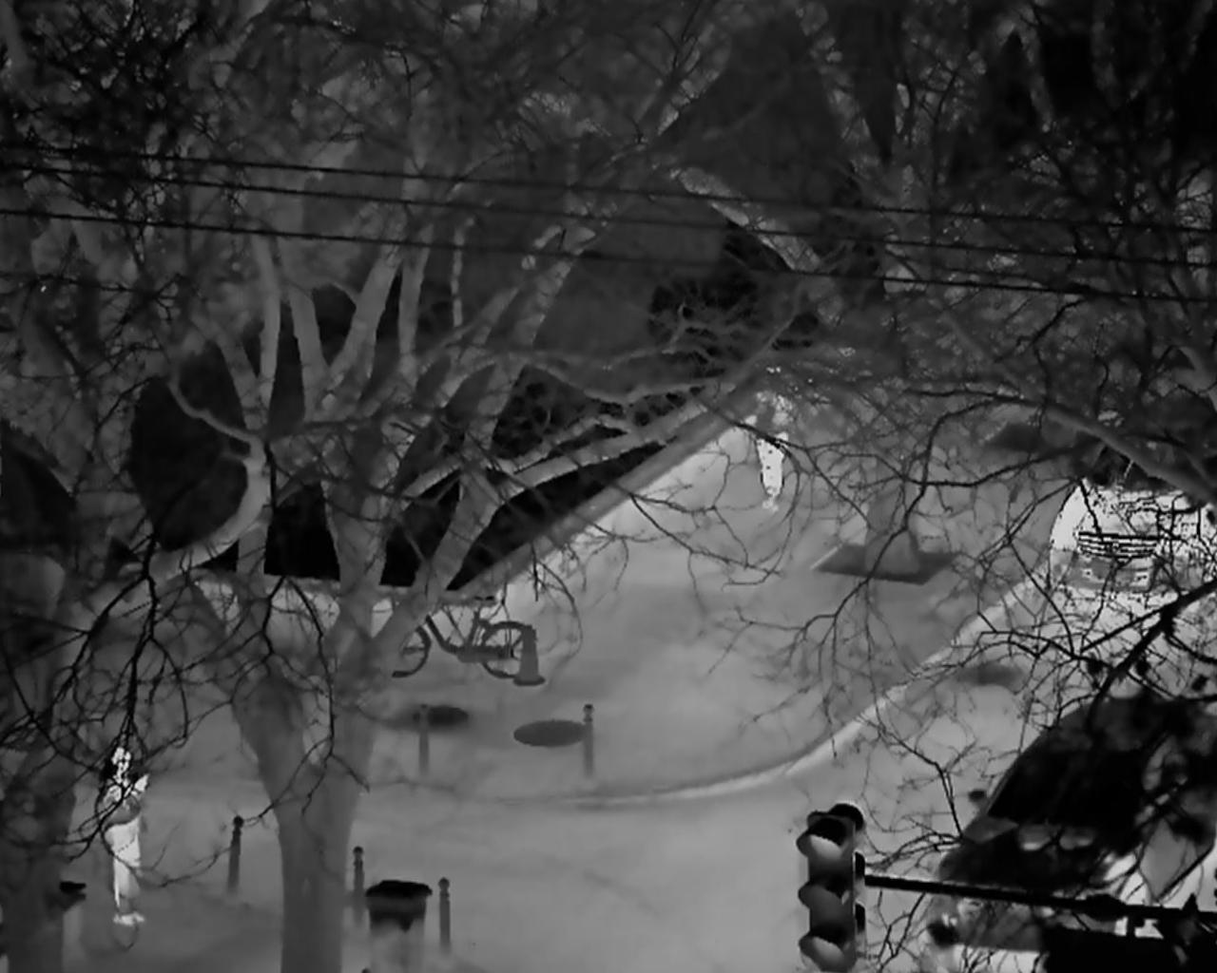person: (101, 746, 150, 925), (749, 388, 796, 509)
